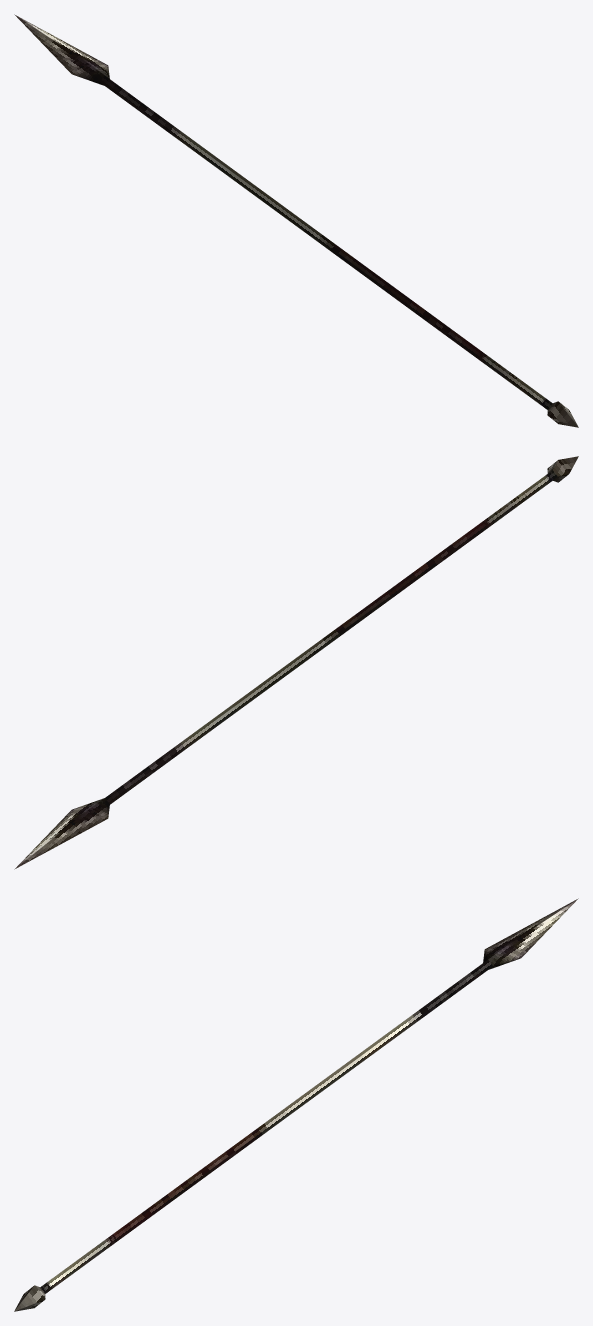
Rendered from spear_gax_spears_of_sparta_spears_of_sparta5.glb.
3 renders of one model, top to bottom at view 1: azimuth 30°, elevation 25°; view 2: azimuth 150°, elevation 25°; view 3: azimuth 330°, elevation 25°, orthographic.
Bounding box in the file's own units: 0.1163 × 0.0696 × 3.11.
1 material, 1 textured.
